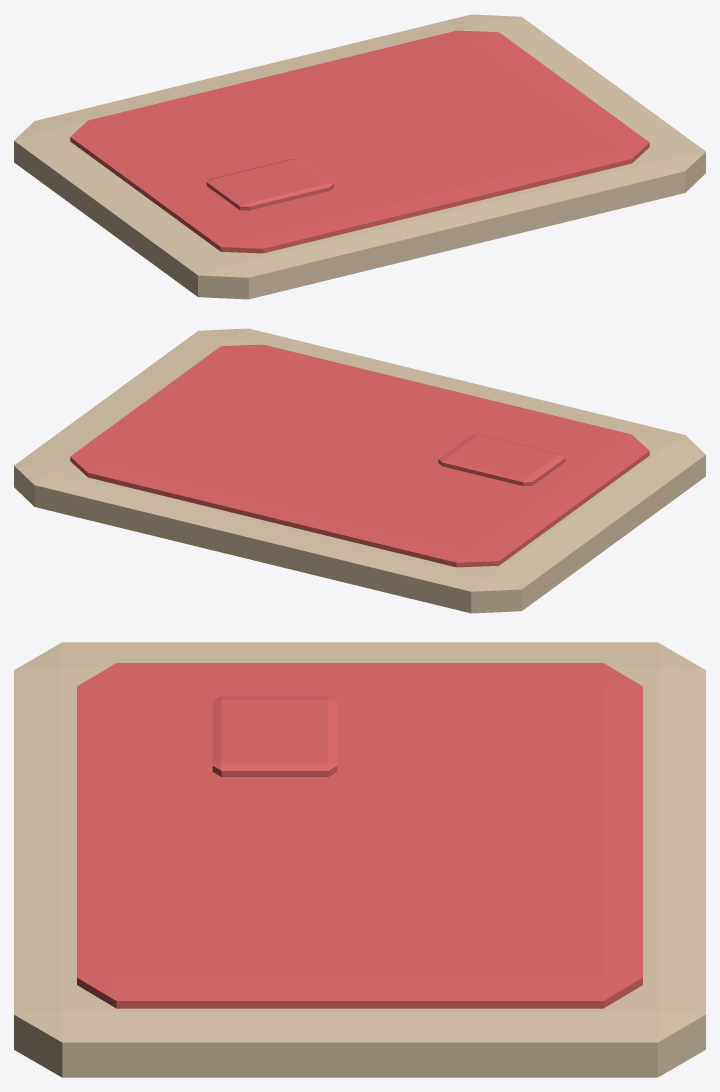
Rendered from b16_folded_newspaper.glb.
The picture shows the model from 3 angles, top to bottom: view 1: azimuth 30°, elevation 25°; view 2: azimuth 150°, elevation 25°; view 3: azimuth 270°, elevation 25°; orthographic projection. The views are drawn at different scales.
Parts seen in each view (by area): view 1: b16_folded_newspaper; view 2: b16_folded_newspaper; view 3: b16_folded_newspaper.
Part boxes in pixels (left/top/right/bottom): b16_folded_newspaper: left=14, top=14, right=705, bottom=299; b16_folded_newspaper: left=14, top=328, right=705, bottom=613; b16_folded_newspaper: left=14, top=642, right=705, bottom=1077.
Bounding box in the file's own units: 0.215 × 0.015 × 0.157.
